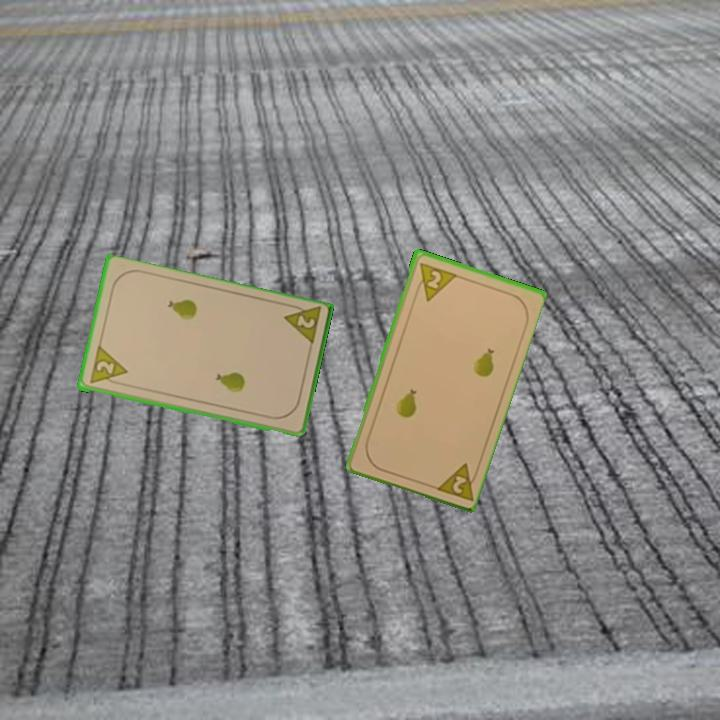2p: (430, 459, 482, 503), (412, 258, 458, 304), (85, 344, 130, 387), (293, 312, 318, 332)
